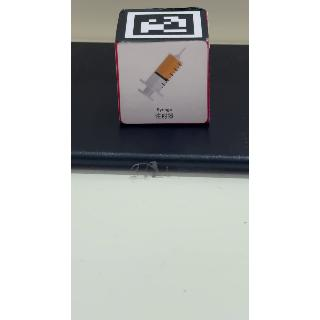Syringe: (116, 41, 212, 127)
